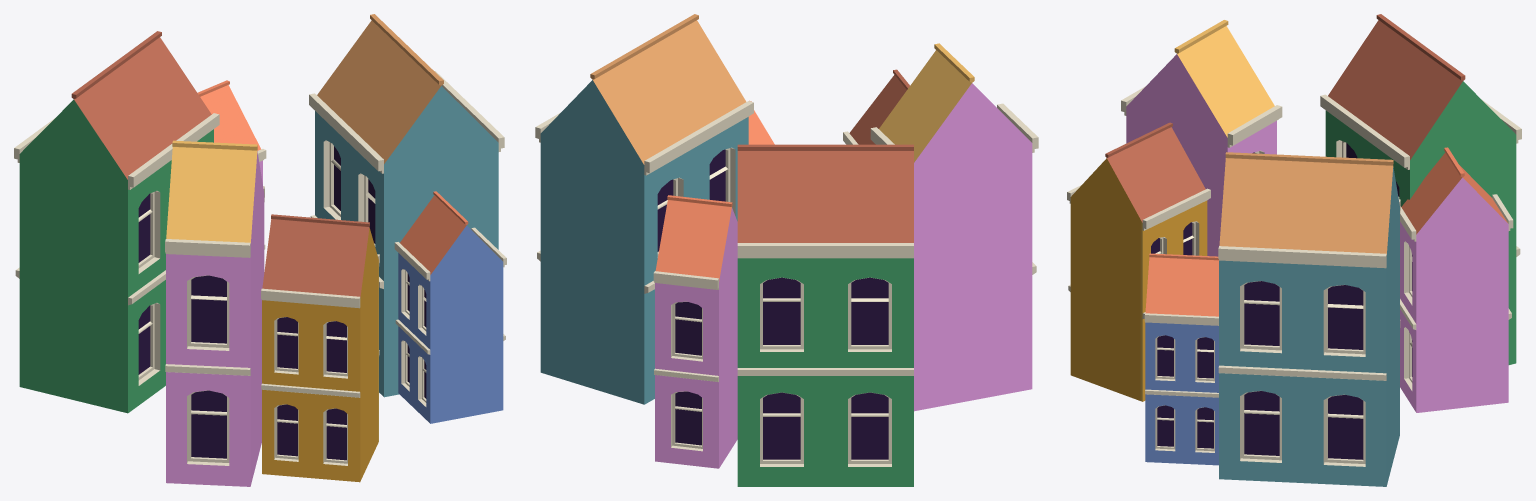
The model's file is M_CityTile_1.fbx.
3 renders of one model, left to right at view 1: azimuth 30°, elevation 25°; view 2: azimuth 150°, elevation 25°; view 3: azimuth 270°, elevation 25°, orthographic. The views are drawn at different scales.
Parts seen in each view (by area): view 1: M_CityTile_1; view 2: M_CityTile_1; view 3: M_CityTile_1.
Part boxes in pixels (box(x1,y1,x2,y2)): M_CityTile_1: box(14, 14, 506, 486); M_CityTile_1: box(535, 14, 1038, 486); M_CityTile_1: box(1067, 14, 1521, 486).
Size of the model in its own units: 1.5 by 1.14 by 1.52.
